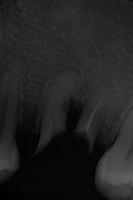Endo-Periodontal Lesion: (66, 99, 83, 131)
